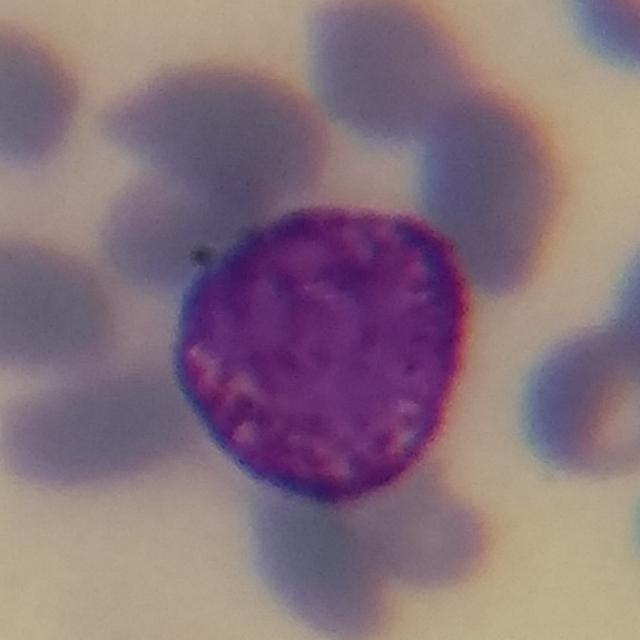Basophil: (168, 180, 473, 516)
RBC: (95, 50, 336, 238), (415, 86, 565, 294), (245, 473, 405, 640), (297, 1, 472, 151), (506, 304, 640, 490), (0, 358, 163, 503), (350, 469, 503, 596), (0, 228, 117, 381), (0, 8, 91, 176), (550, 0, 640, 83), (603, 224, 640, 392)
